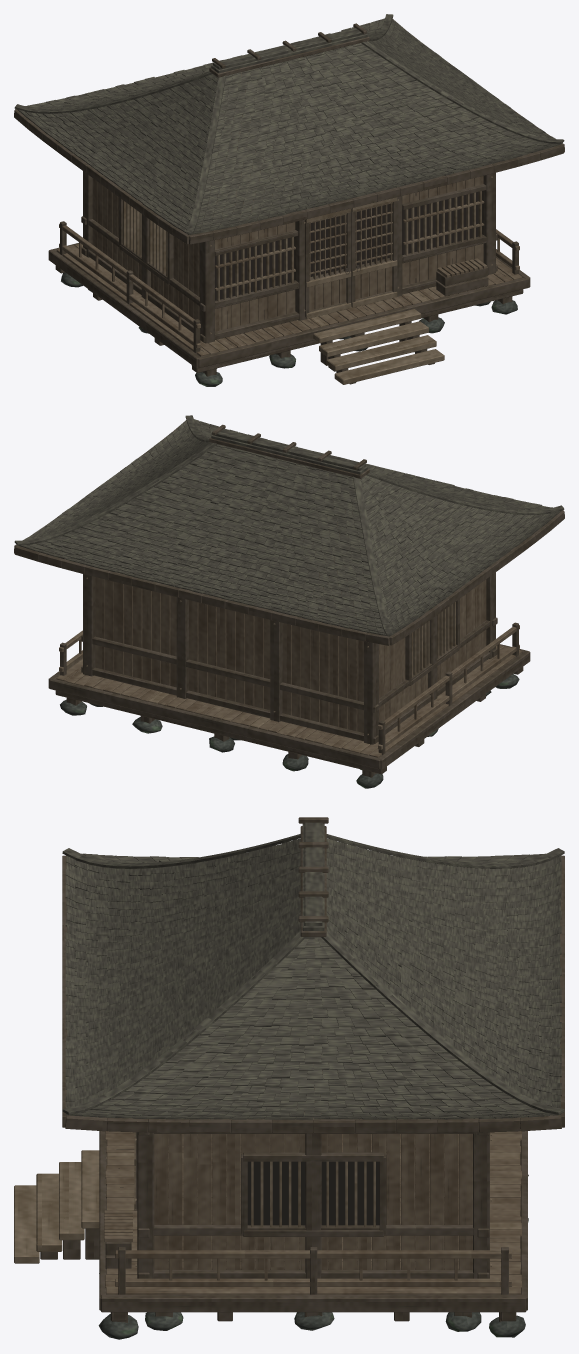
Rendered from temple.glb.
3 renders of one model, top to bottom at view 1: azimuth 30°, elevation 25°; view 2: azimuth 150°, elevation 25°; view 3: azimuth 270°, elevation 25°, orthographic. The views are drawn at different scales.
Parts seen in each view (by area): view 1: 01_Roof | Cedar shingles | soft ash and lichen, 03_Timber_wall_frame | Cedar | protected structural heartwoo, 03_Timber_wall_frame | Cedar | weathered silver brown, 04_Veranda_and_steps | Cedar | protected structural heartwoo, 06_Front_details | Cedar | worn exposed edges, 04_Veranda_and_steps | Cedar | weathered silver brown, 06_Front_details | Cedar | weathered silver brown, 04_Veranda_and_steps | Cedar | worn exposed edges, 02_Rafters_and_joinery | Cedar | protected structural heartw, 06_Front_details | Cedar | protected structural heartwood, 06_Front_details | Unlit timber recess, 03_Timber_wall_frame | Unlit timber recess (+2 smaller); view 2: 01_Roof | Cedar shingles | soft ash and lichen, 03_Timber_wall_frame | Cedar | weathered silver brown, 03_Timber_wall_frame | Cedar | protected structural heartwoo, 04_Veranda_and_steps | Cedar | protected structural heartwoo, 04_Veranda_and_steps | Cedar | weathered silver brown, 02_Rafters_and_joinery | Cedar | protected structural heartw, 05_Foundation | Footing stones | river granite, 06_Front_details | Cedar | worn exposed edges, 01_Roof | Cedar | protected structural heartwood; view 3: 01_Roof | Cedar shingles | soft ash and lichen, 03_Timber_wall_frame | Cedar | weathered silver brown, 04_Veranda_and_steps | Cedar | weathered silver brown, 03_Timber_wall_frame | Cedar | protected structural heartwoo, 04_Veranda_and_steps | Cedar | protected structural heartwoo, 02_Rafters_and_joinery | Cedar | protected structural heartw, 04_Veranda_and_steps | Cedar | worn exposed edges, 06_Front_details | Unlit timber recess, 05_Foundation | Footing stones | river granite, 06_Front_details | Cedar | worn exposed edges, 01_Roof | Cedar | protected structural heartwood, 06_Front_details | Cedar | weathered silver brown (+1 smaller).
Part boxes in pixels (x1,y1,x2,y2): 01_Roof | Cedar shingles | soft ash and lichen: [14, 14, 564, 234]; 03_Timber_wall_frame | Cedar | protected structural heartwoo: [81, 171, 497, 343]; 03_Timber_wall_frame | Cedar | weathered silver brown: [79, 176, 499, 331]; 04_Veranda_and_steps | Cedar | protected structural heartwoo: [48, 221, 530, 384]; 06_Front_details | Cedar | worn exposed edges: [123, 191, 481, 318]; 04_Veranda_and_steps | Cedar | weathered silver brown: [56, 223, 522, 356]; 06_Front_details | Cedar | weathered silver brown: [215, 200, 487, 310]; 04_Veranda_and_steps | Cedar | worn exposed edges: [74, 244, 444, 384]; 02_Rafters_and_joinery | Cedar | protected structural heartw: [14, 19, 564, 244]; 06_Front_details | Cedar | protected structural heartwood: [215, 184, 488, 316]; 06_Front_details | Unlit timber recess: [215, 191, 482, 300]; 03_Timber_wall_frame | Unlit timber recess: [227, 184, 452, 328]; 01_Roof | Cedar shingles | soft ash and lichen: [14, 415, 564, 636]; 03_Timber_wall_frame | Cedar | weathered silver brown: [79, 577, 499, 732]; 03_Timber_wall_frame | Cedar | protected structural heartwoo: [81, 572, 497, 744]; 04_Veranda_and_steps | Cedar | protected structural heartwoo: [48, 622, 530, 777]; 04_Veranda_and_steps | Cedar | weathered silver brown: [56, 625, 522, 757]; 02_Rafters_and_joinery | Cedar | protected structural heartw: [14, 420, 564, 645]; 05_Foundation | Footing stones | river granite: [60, 674, 519, 788]; 06_Front_details | Cedar | worn exposed edges: [411, 602, 455, 677]; 01_Roof | Cedar | protected structural heartwood: [65, 424, 369, 632]; 01_Roof | Cedar shingles | soft ash and lichen: [62, 822, 564, 1119]; 03_Timber_wall_frame | Cedar | weathered silver brown: [154, 1134, 472, 1280]; 04_Veranda_and_steps | Cedar | weathered silver brown: [105, 1129, 521, 1294]; 03_Timber_wall_frame | Cedar | protected structural heartwoo: [137, 1131, 489, 1278]; 04_Veranda_and_steps | Cedar | protected structural heartwoo: [40, 1131, 527, 1322]; 02_Rafters_and_joinery | Cedar | protected structural heartw: [62, 855, 564, 1133]; 04_Veranda_and_steps | Cedar | worn exposed edges: [14, 1150, 521, 1263]; 06_Front_details | Unlit timber recess: [247, 1161, 379, 1225]; 05_Foundation | Footing stones | river granite: [98, 1174, 528, 1339]; 06_Front_details | Cedar | worn exposed edges: [134, 1132, 375, 1227]; 01_Roof | Cedar | protected structural heartwood: [69, 817, 557, 1119]; 06_Front_details | Cedar | weathered silver brown: [104, 1210, 132, 1241].
Bounding box in the file's own units: 9.22 × 5.93 × 8.11.
Materials: 7 (5 with a texture image).
